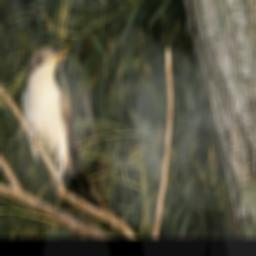Cuckoo: (18, 46, 123, 227)
